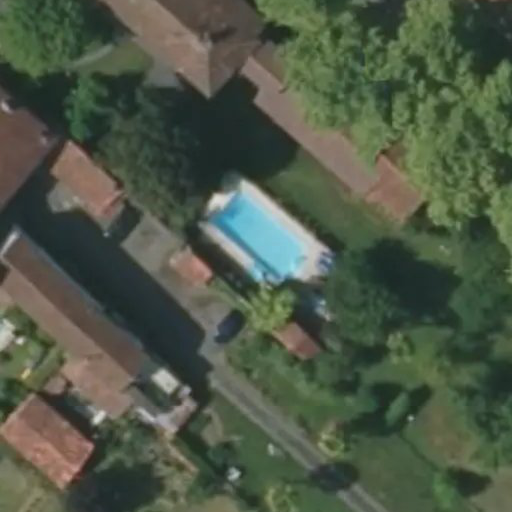pool: (208, 225, 303, 258)
